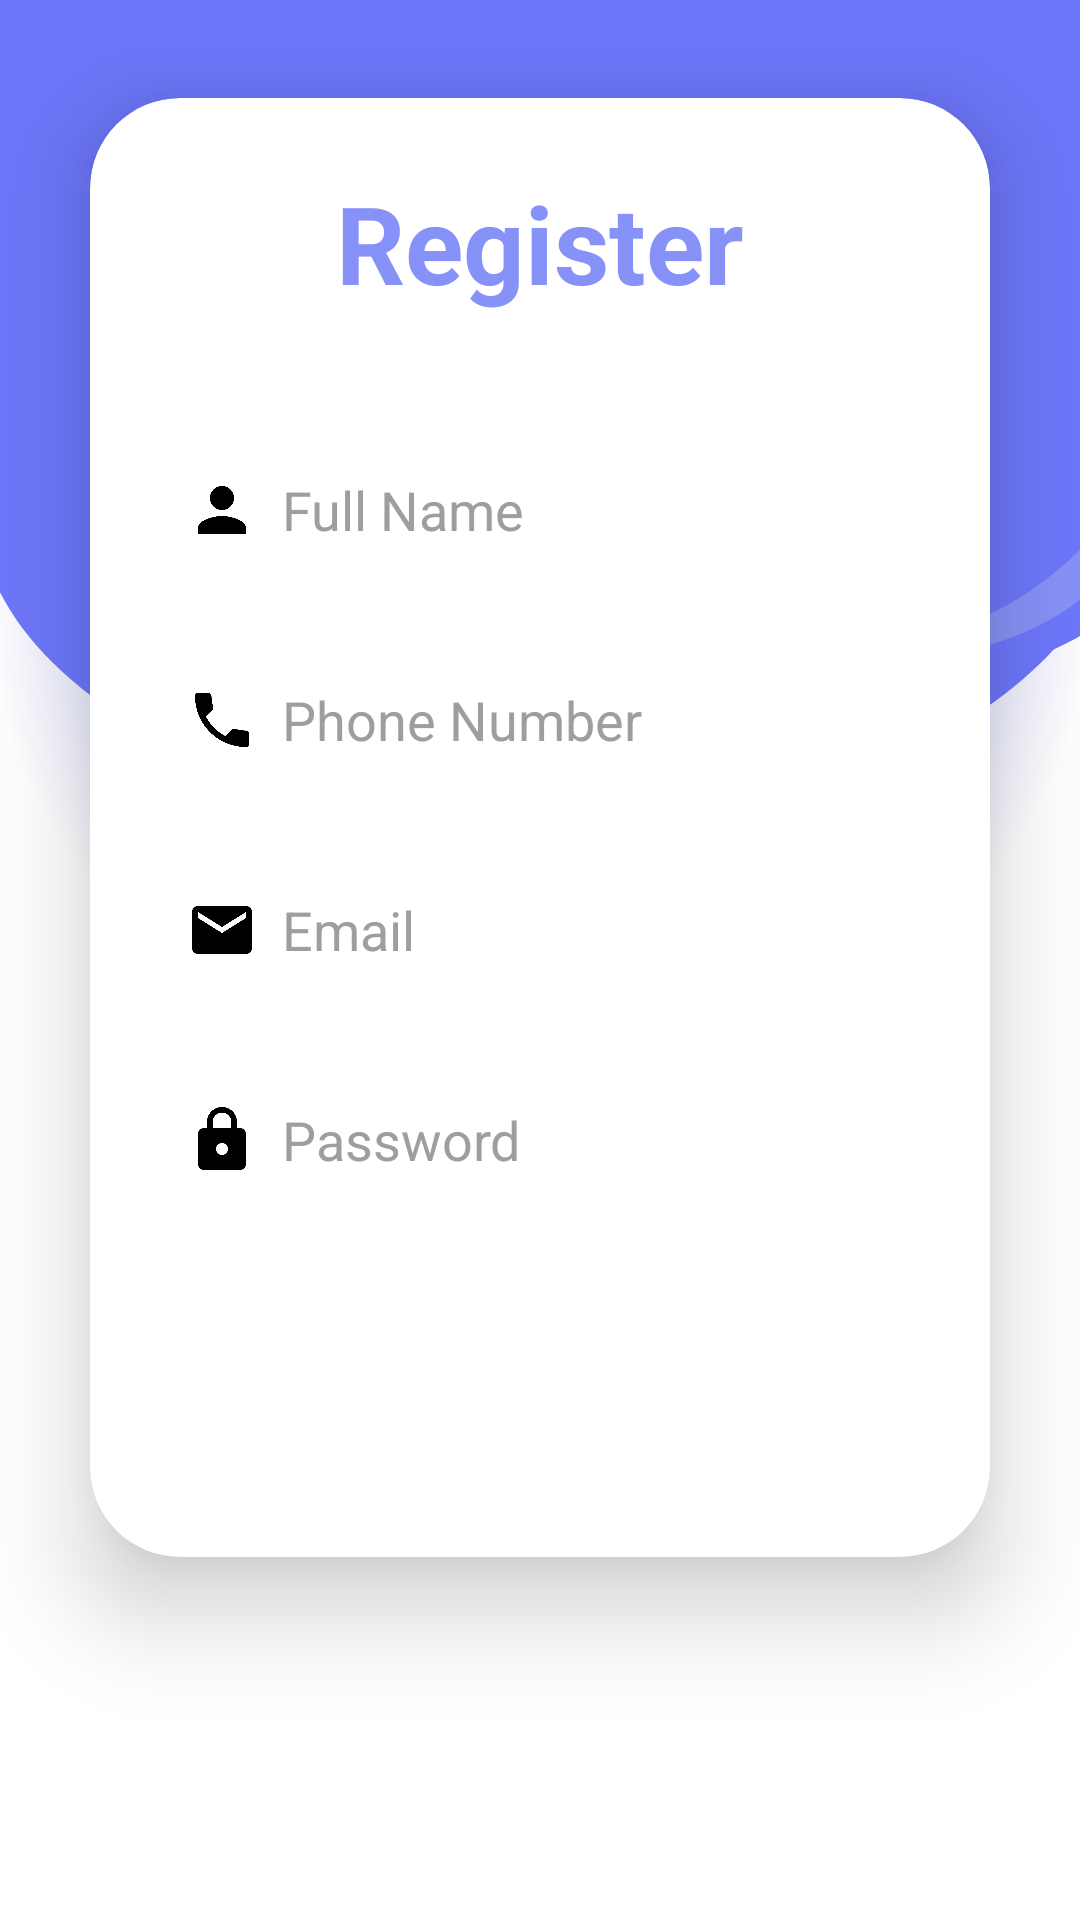

Icon bounding boxes for this 1080w x 1920h phone screenshot, format box=[x1, y1, x2, y2]:
Lock Icon: box=[198, 1107, 246, 1170]
Person Icon: box=[198, 486, 246, 534]
